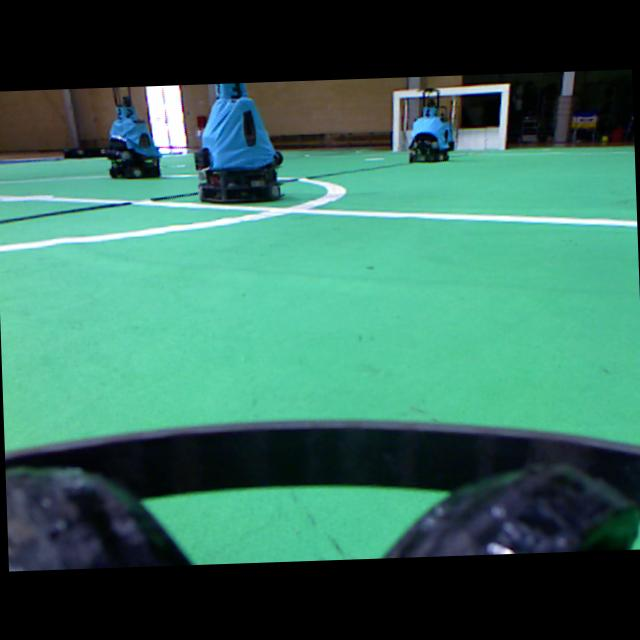goal: (497, 83, 509, 149), (391, 91, 399, 150)
